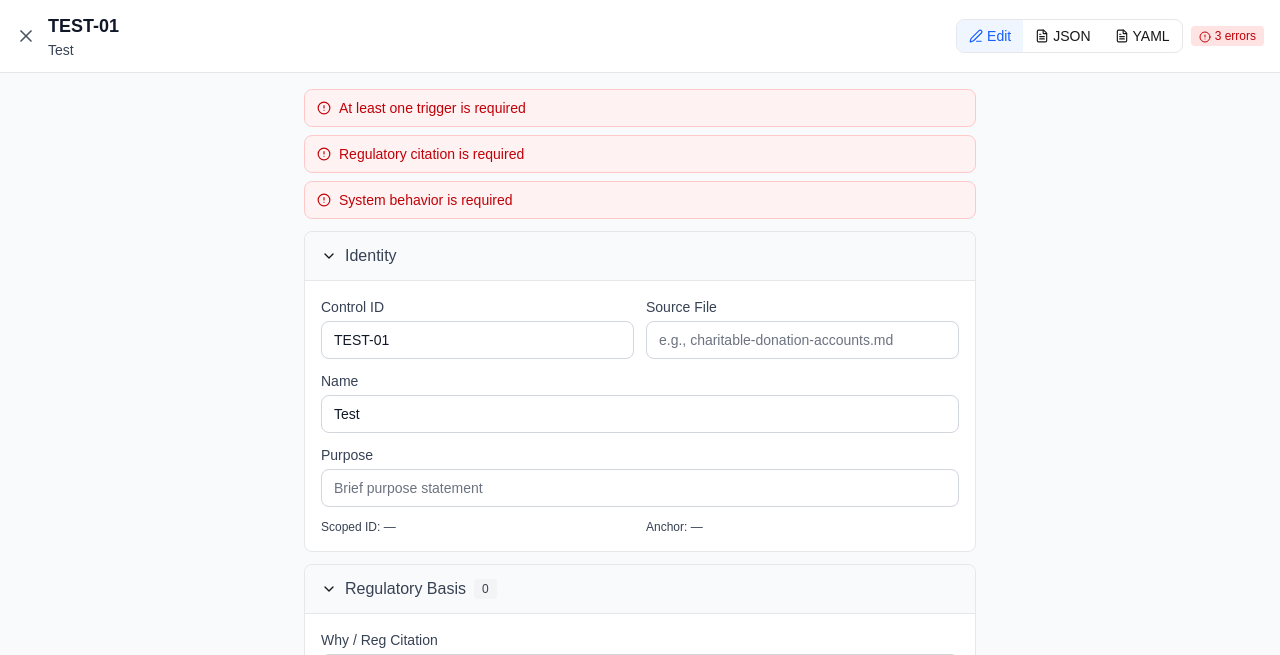
Test: ControlEditor › tab switching › switches to JSON tab
Click the button "JSON": (1063,36) [1023,20,1102,52]
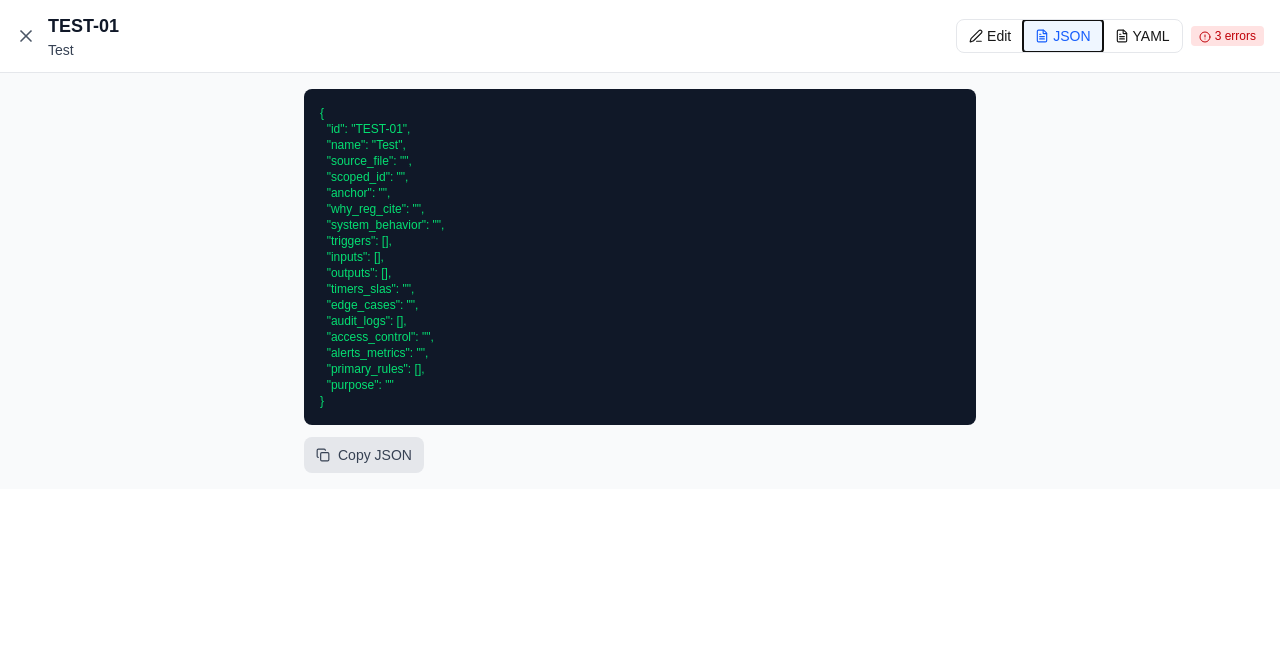
Now the text "\"id\":" is shown, box [320,106,444,408]
Now the button "Copy JSON" is shown, box [304,437,424,473]
